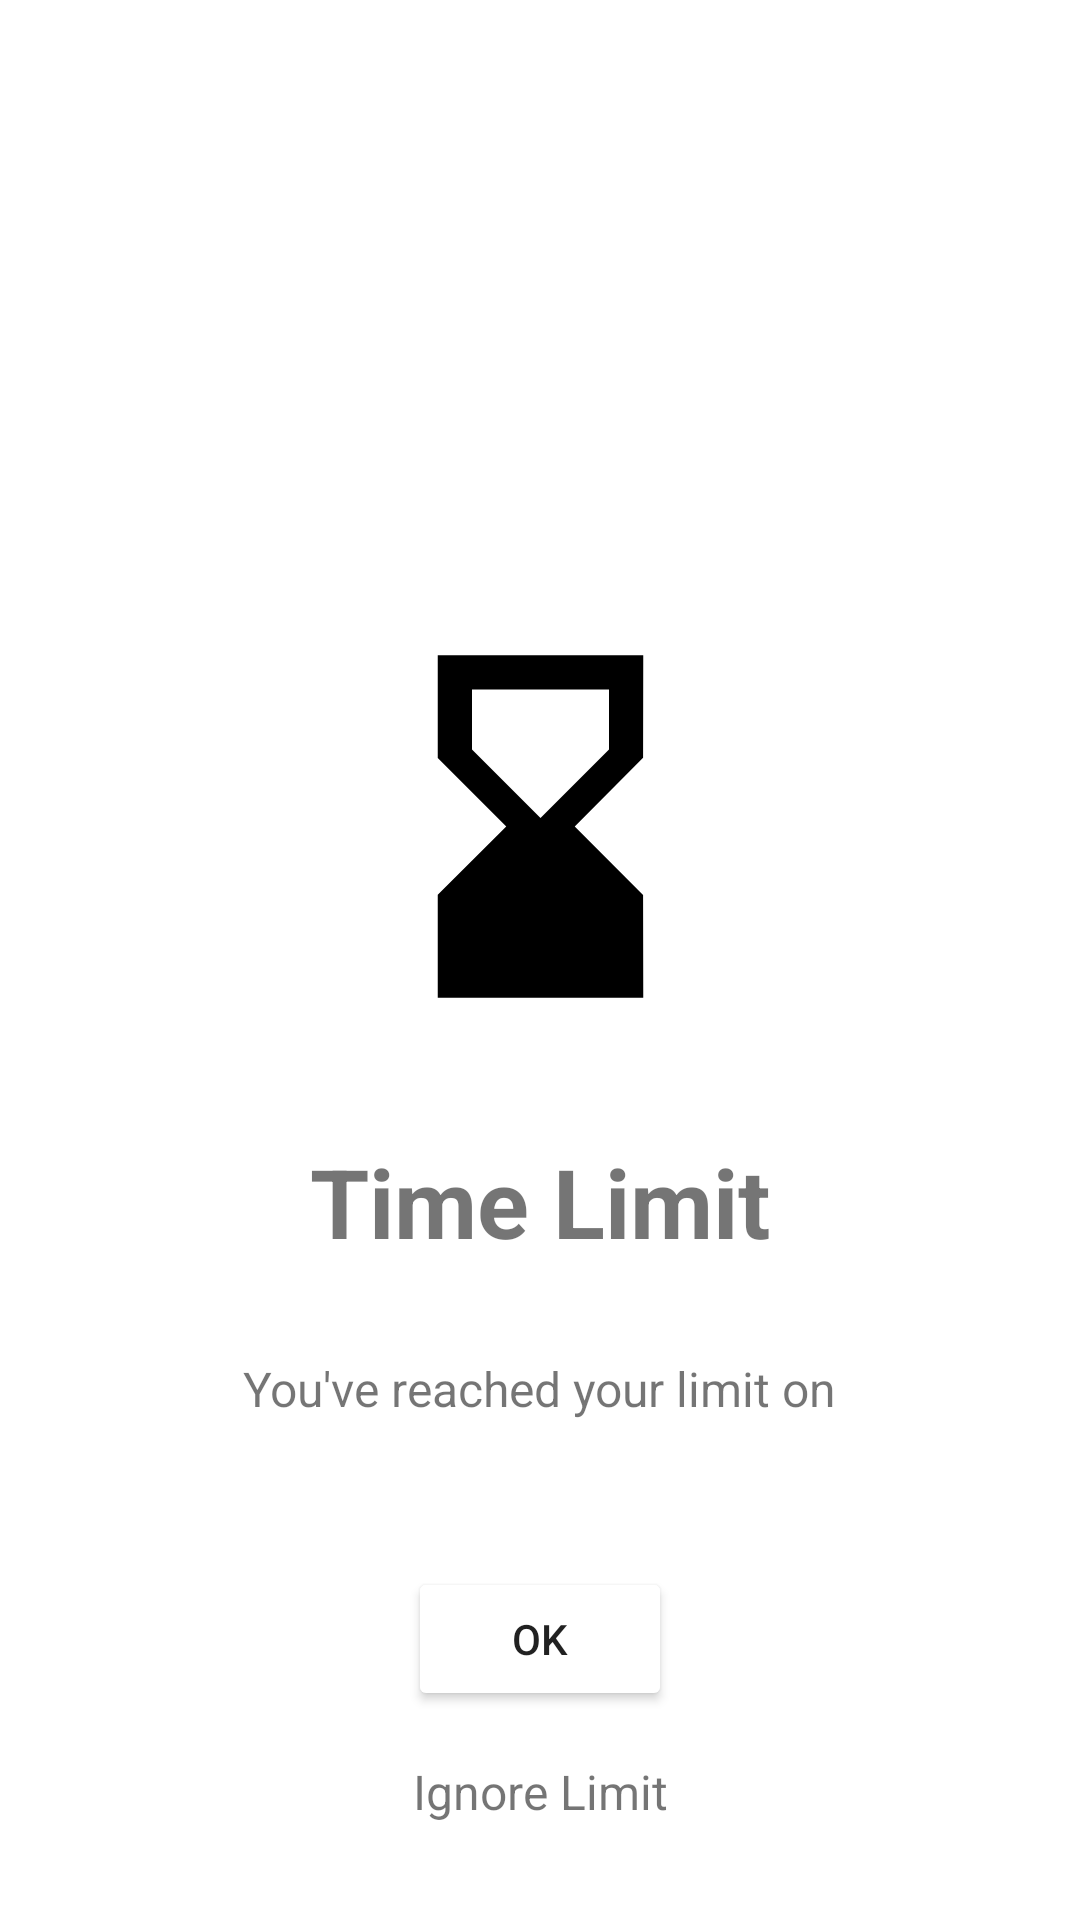

Named icons in this screenshot (1080px x 1920px) and their bounding boxes, (x1, y1, x2, y2):
hourglass bottom: (437, 655, 644, 998)
